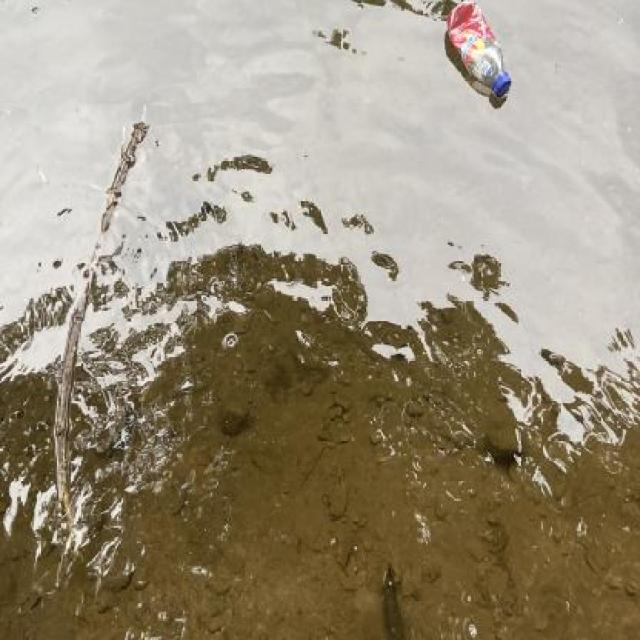Plastic: (440, 0, 526, 111)
